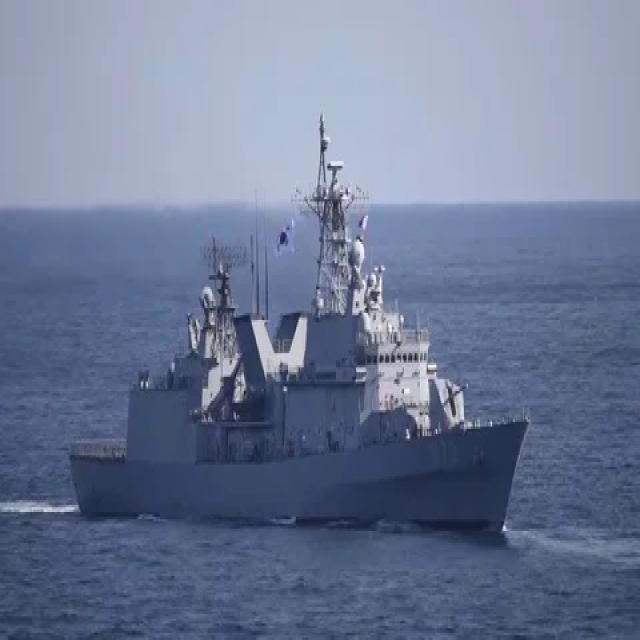navalvessels: (59, 120, 527, 537)
